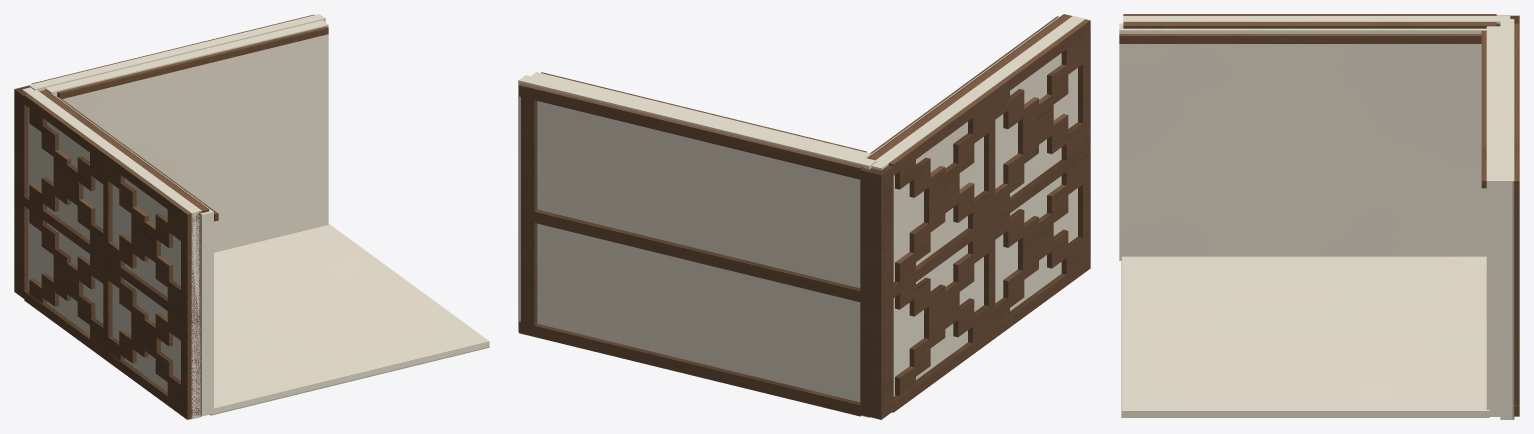
File: med_corner.glb
3 renders of one model, left to right at view 1: azimuth 30°, elevation 25°; view 2: azimuth 150°, elevation 25°; view 3: azimuth 270°, elevation 25°, orthographic. The views are drawn at different scales.
Visible parts, largest first — view 1: med_corner; view 2: med_corner; view 3: med_corner.
Part boxes in pixels (x1,y1,x2,y2): med_corner: [14, 14, 489, 419]; med_corner: [518, 14, 1090, 419]; med_corner: [1119, 14, 1519, 419].
Bounding box in the file's own units: 4.08 × 2.68 × 4.08.
Materials: 1 (1 with a texture image).
